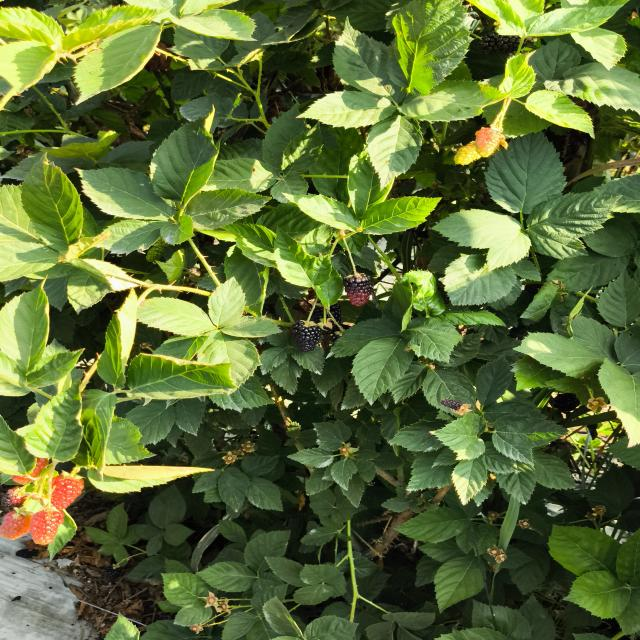maduro: (293, 321, 321, 352)
marron: (343, 273, 373, 306), (0, 485, 26, 510)
naranja: (30, 508, 64, 545), (51, 476, 83, 509), (475, 127, 507, 157), (12, 458, 48, 484), (0, 510, 32, 539)
verde: (454, 142, 481, 165)
